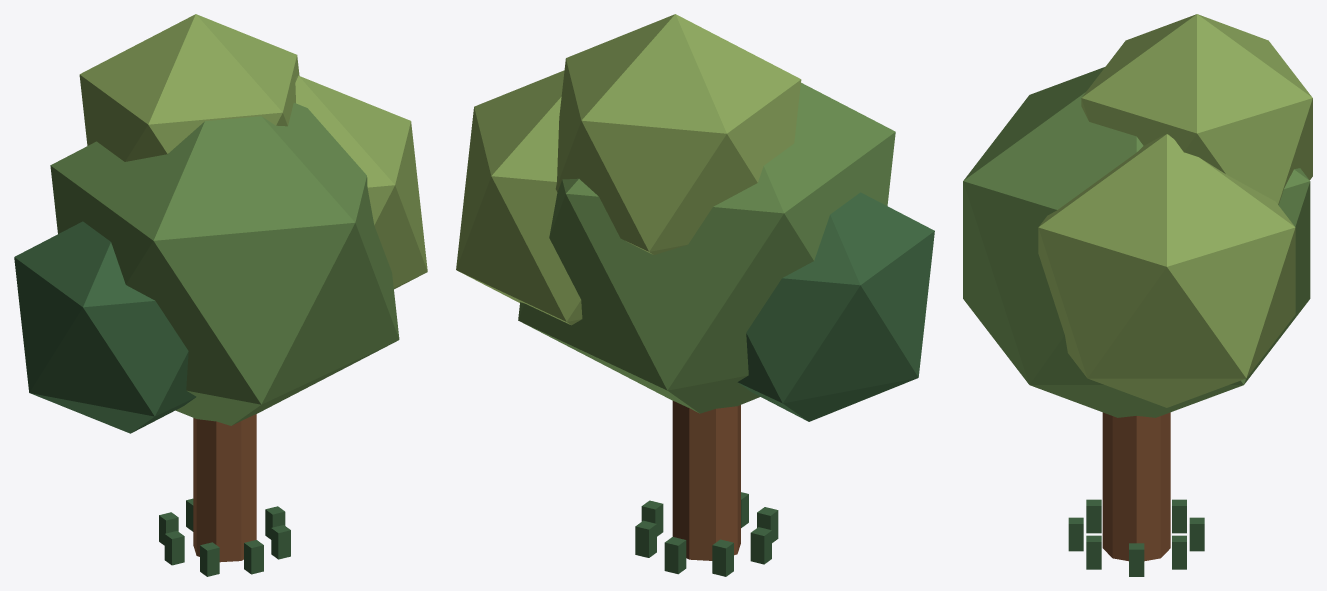
The model's file is tree.glb.
3 views of the same model, side by side, from view 1: azimuth 30°, elevation 25°; view 2: azimuth 150°, elevation 25°; view 3: azimuth 270°, elevation 25° (orthographic). The views are drawn at different scales.
Visible parts, largest first — view 1: village_tree; view 2: village_tree; view 3: village_tree.
Part boxes in pixels (<box>): village_tree: <box>14,14,427,576</box>; village_tree: <box>456,14,934,576</box>; village_tree: <box>963,14,1312,576</box>.
Bounding box in the file's own units: 62.99 × 78 × 46.28.
